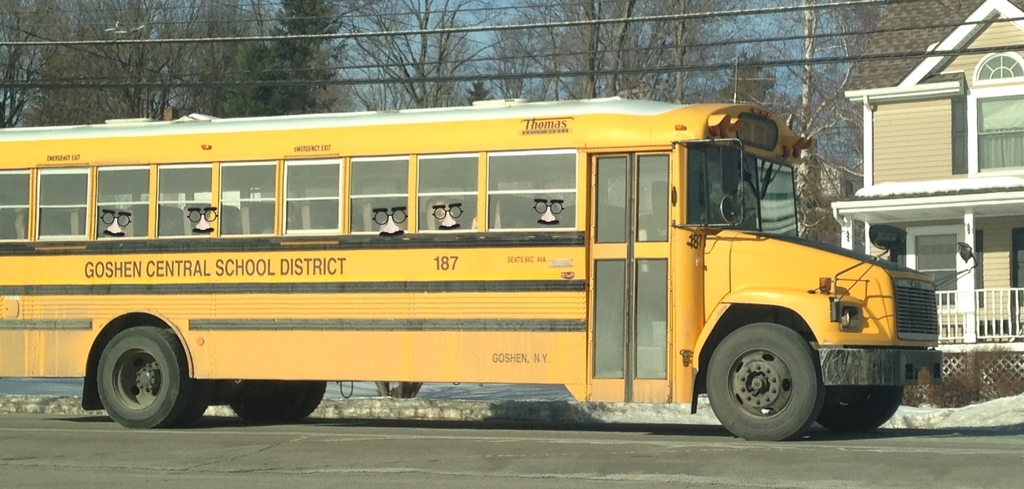Bus: (0, 98, 983, 445)
